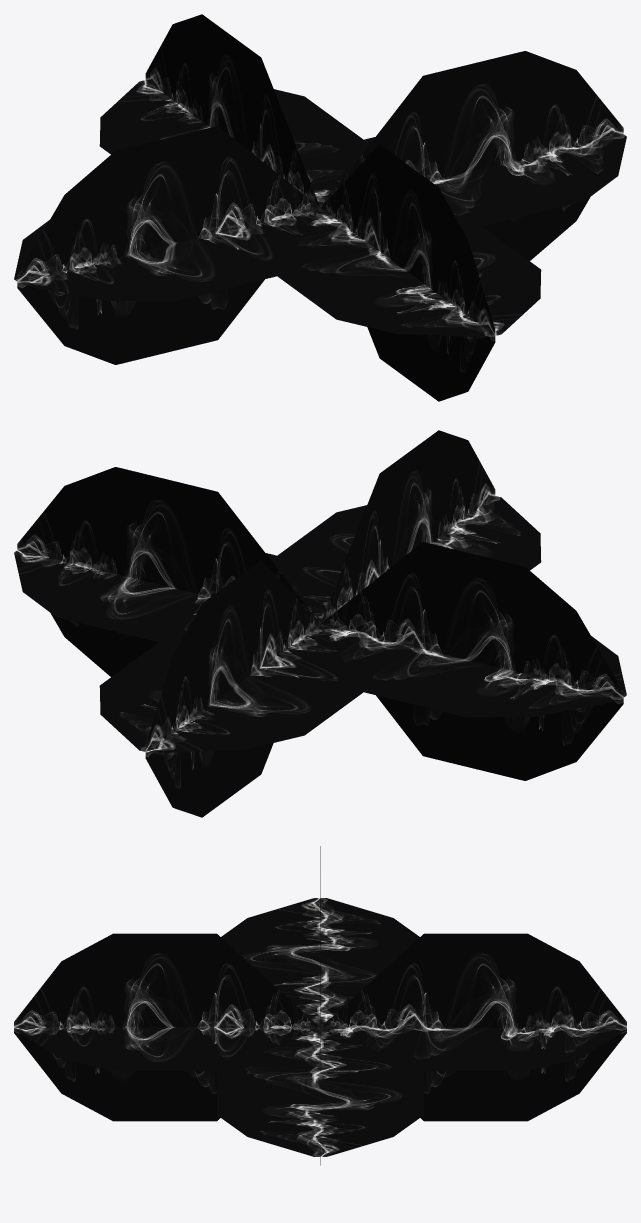
The model's file is Explosion.fbx.
3 views of the same model, one above another, from view 1: azimuth 30°, elevation 25°; view 2: azimuth 150°, elevation 25°; view 3: azimuth 270°, elevation 25° (orthographic). The views are drawn at different scales.
Visible parts, largest first — view 1: Explosion.002, Explosion.004, Explosion.003, AbsolutePart.004, Explosion.001; view 2: Explosion.002, Explosion.004, Explosion.001, AbsolutePart.004, Explosion.003; view 3: Explosion.001, Explosion.003, AbsolutePart.004, Explosion.004, Explosion.002.
Boxes of the visible parts, x1=… form: Explosion.002: x1=14, y1=126, x2=276, y2=364; Explosion.004: x1=364, y1=51, x2=626, y2=260; Explosion.003: x1=277, y1=144, x2=541, y2=401; AbsolutePart.004: x1=218, y1=58, x2=481, y2=357; Explosion.001: x1=99, y1=14, x2=363, y2=159; Explosion.002: x1=364, y1=542, x2=626, y2=780; Explosion.004: x1=14, y1=467, x2=276, y2=676; Explosion.001: x1=99, y1=560, x2=363, y2=817; AbsolutePart.004: x1=159, y1=474, x2=422, y2=773; Explosion.003: x1=277, y1=430, x2=541, y2=575; Explosion.001: x1=424, y1=933, x2=626, y2=1121; Explosion.003: x1=14, y1=933, x2=216, y2=1121; AbsolutePart.004: x1=217, y1=890, x2=423, y2=1120; Explosion.004: x1=217, y1=977, x2=423, y2=1165; Explosion.002: x1=221, y1=846, x2=419, y2=983.
Size of the model in its own units: 592 by 200 by 592.
